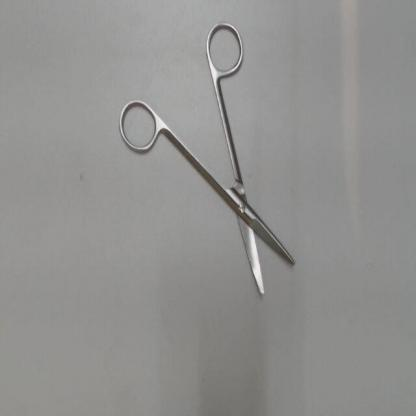Curved Mayo Scissors: (115, 13, 297, 302)
